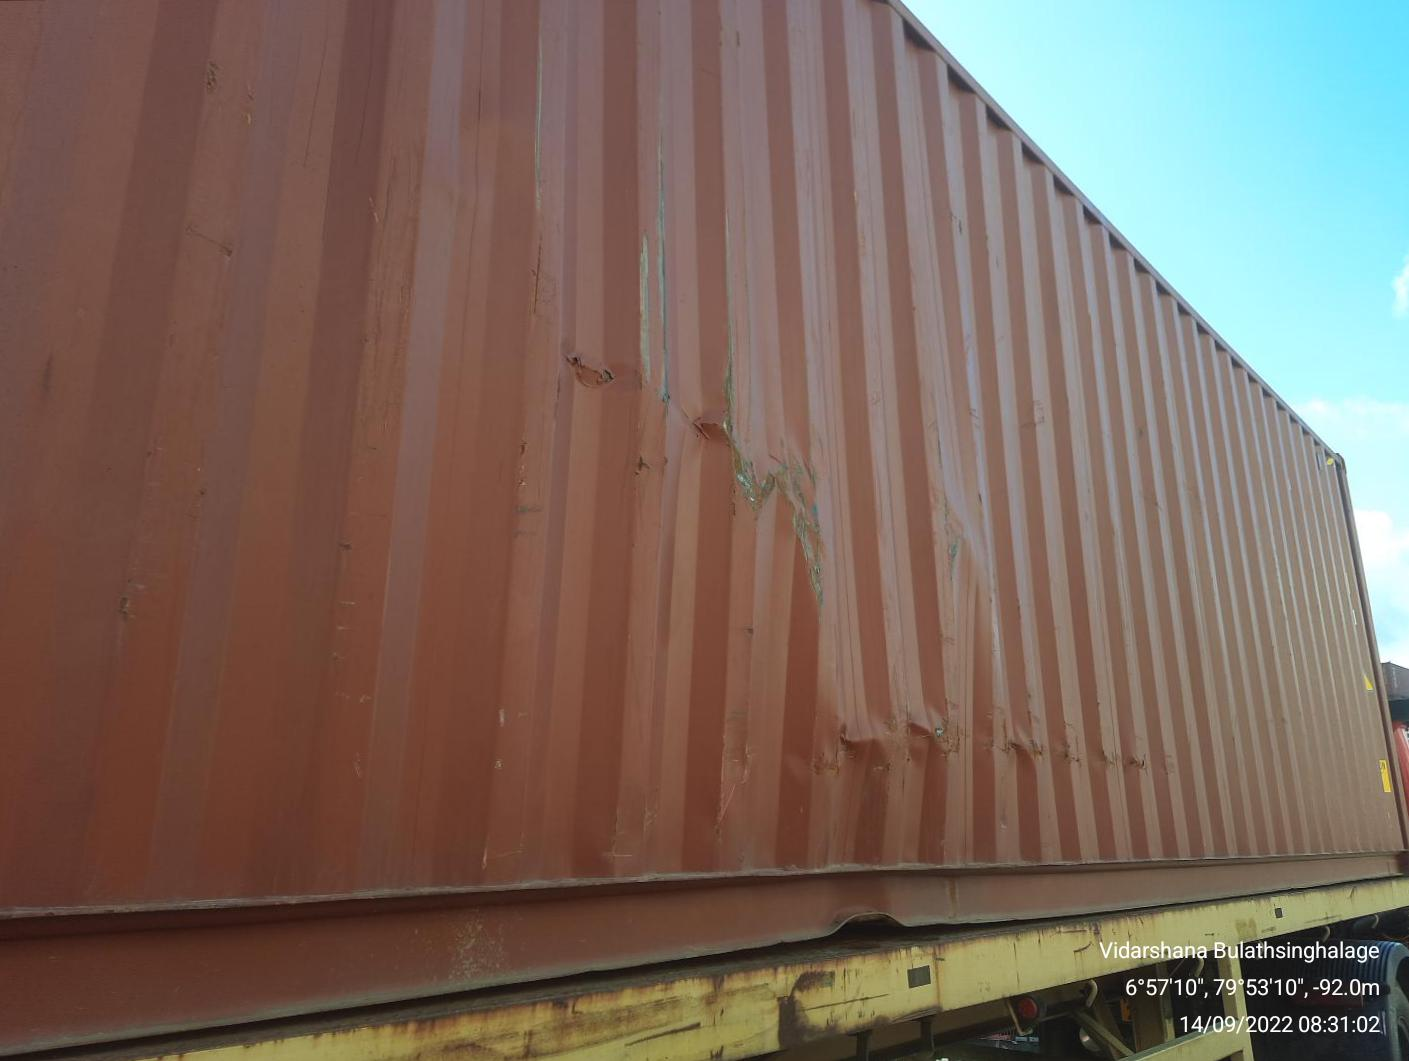bulged: (548, 337, 840, 597), (774, 707, 1155, 809)
